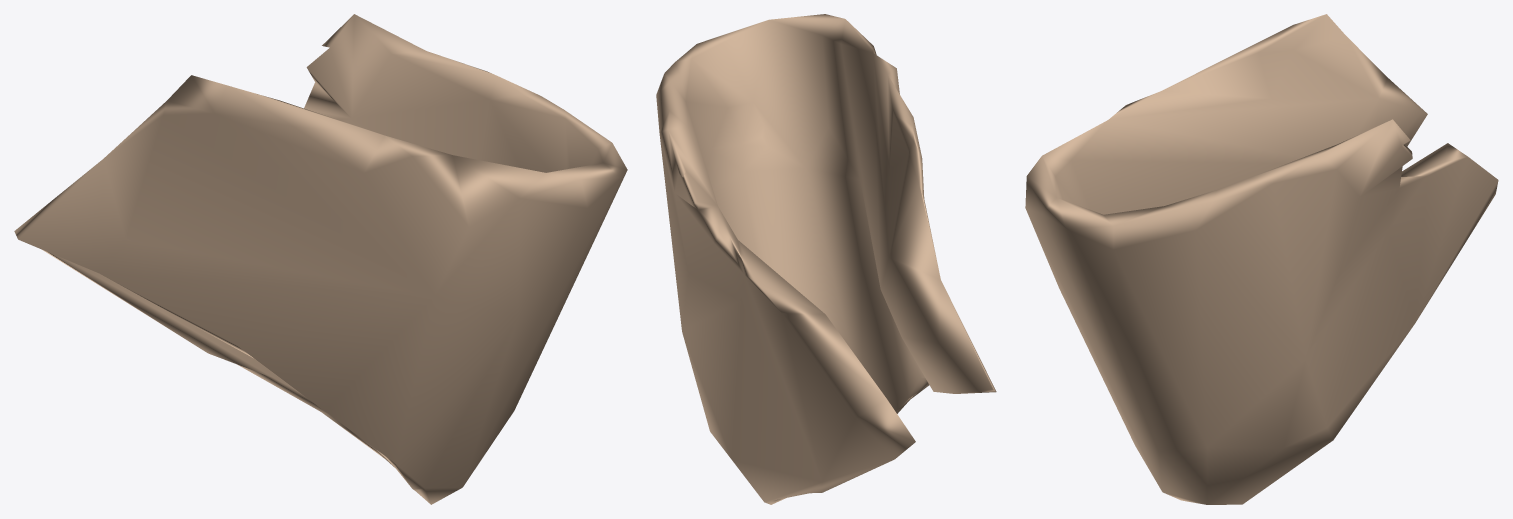
3 renders of one model, left to right at view 1: azimuth 30°, elevation 25°; view 2: azimuth 150°, elevation 25°; view 3: azimuth 270°, elevation 25°, orthographic. The views are drawn at different scales.
Visible parts, largest first — view 1: 左侧二腹肌中间腱; view 2: 左侧二腹肌中间腱; view 3: 左侧二腹肌中间腱.
Boxes of the visible parts, bbox=[...] form: 左侧二腹肌中间腱: bbox=[14, 14, 627, 504]; 左侧二腹肌中间腱: bbox=[656, 14, 996, 504]; 左侧二腹肌中间腱: bbox=[1025, 14, 1498, 504].
Bounding box in the file's own units: 0.0116 × 0.0105 × 0.011.
